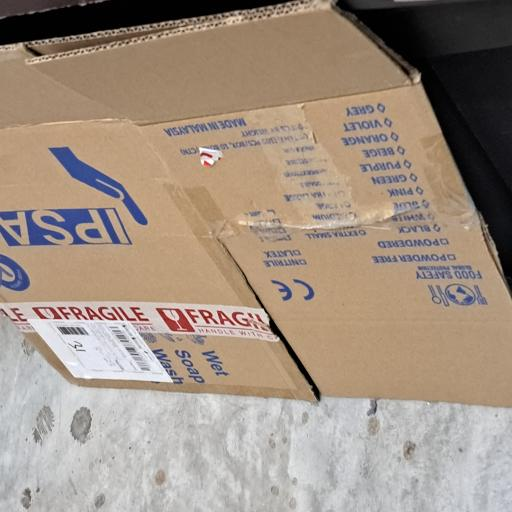cardboard: (76, 0, 384, 512)
